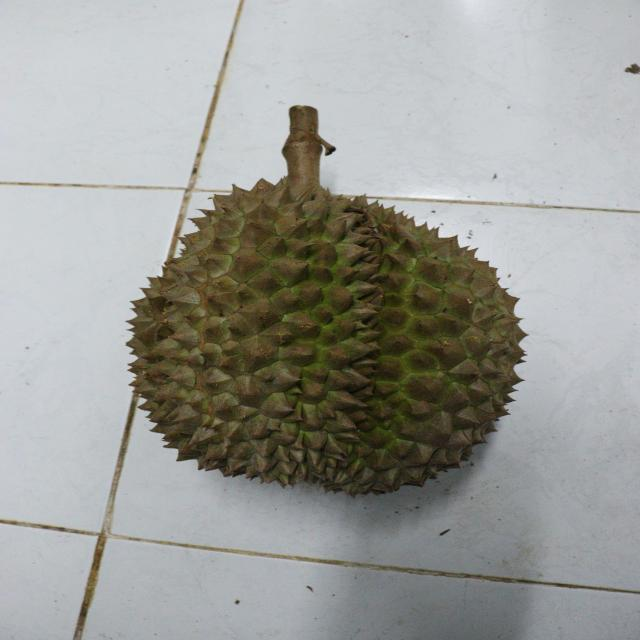mature: (127, 177, 527, 491)
